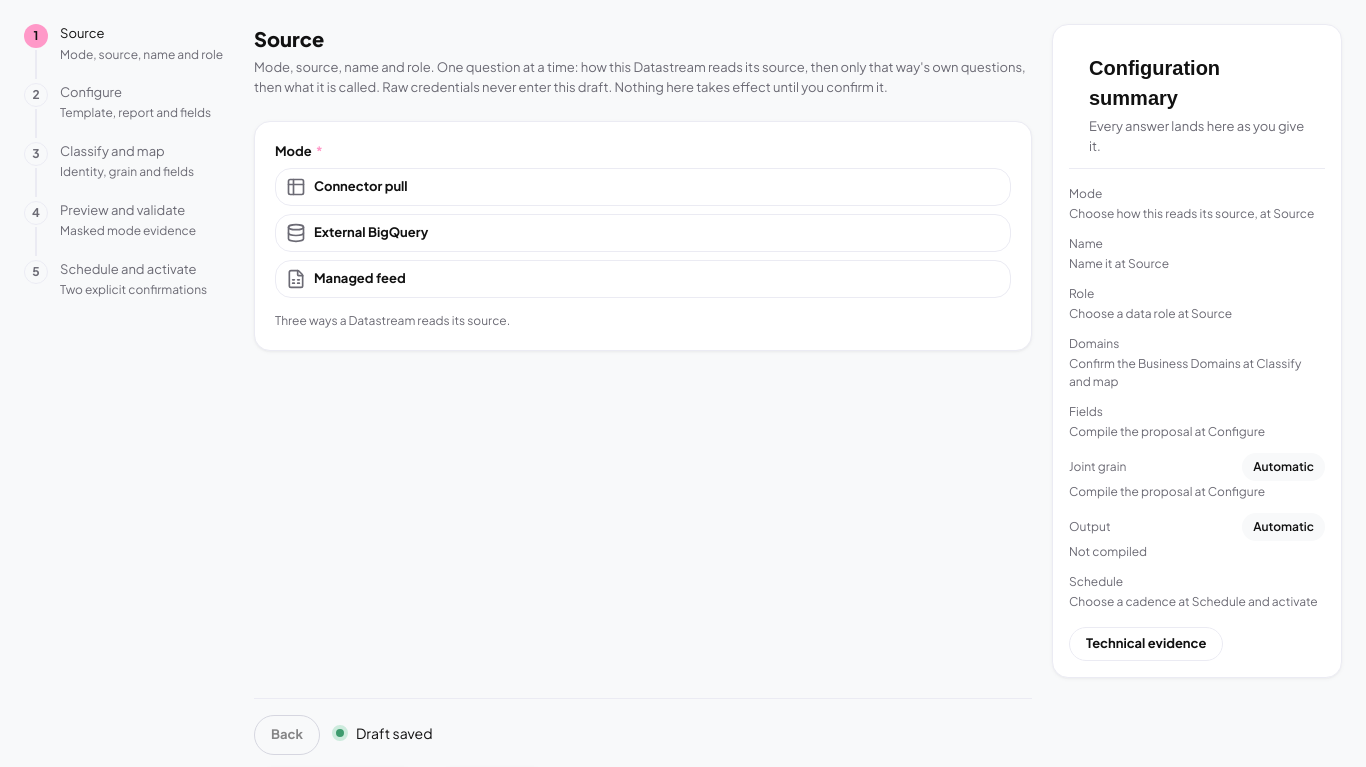
Scenario: states the four clauses of the contract, each with its own state
Click the radio button labelled "Managed feed".
click(360, 278)  # box x1=275 y1=260 x2=1011 y2=298
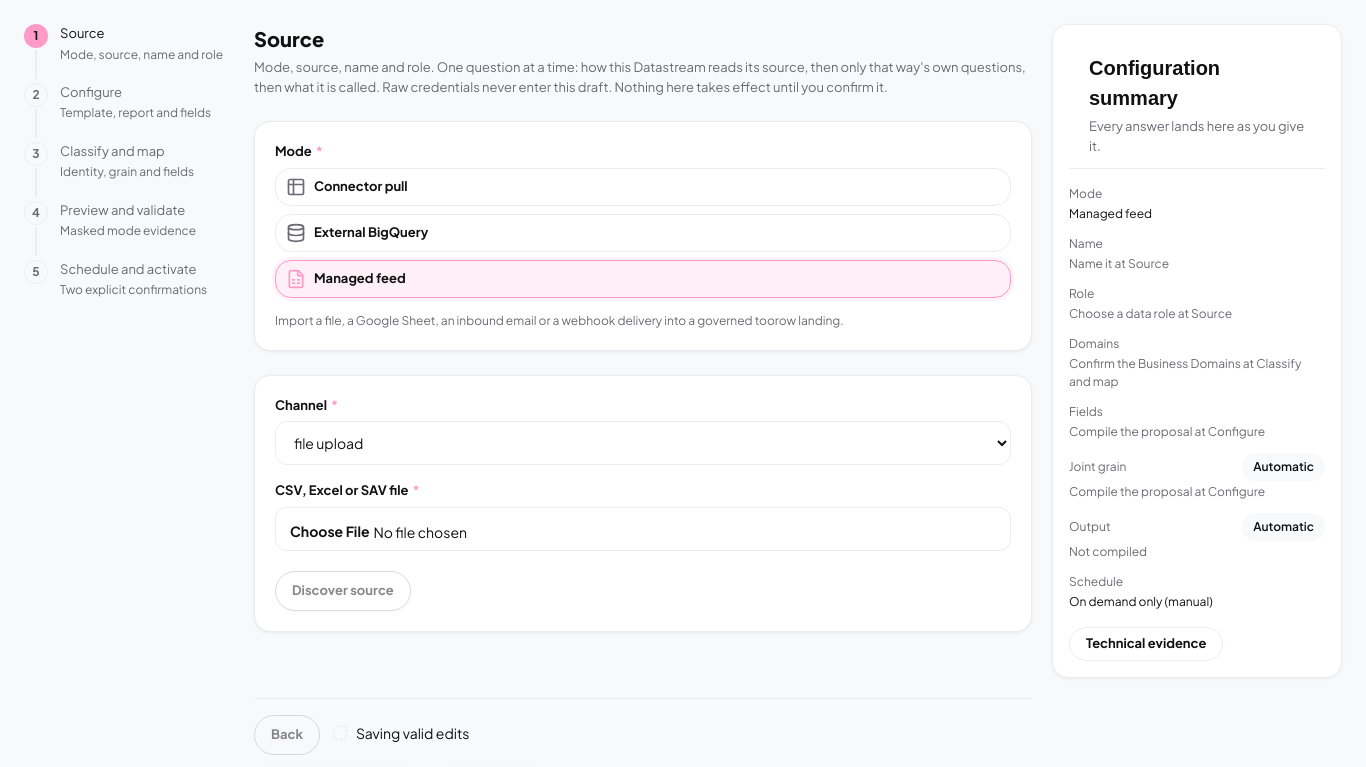
Select "inbound email" in the dropdown labelled "Channel*" at (643, 443), box x1=275 y1=421 x2=1011 y2=465
(page scrolled)
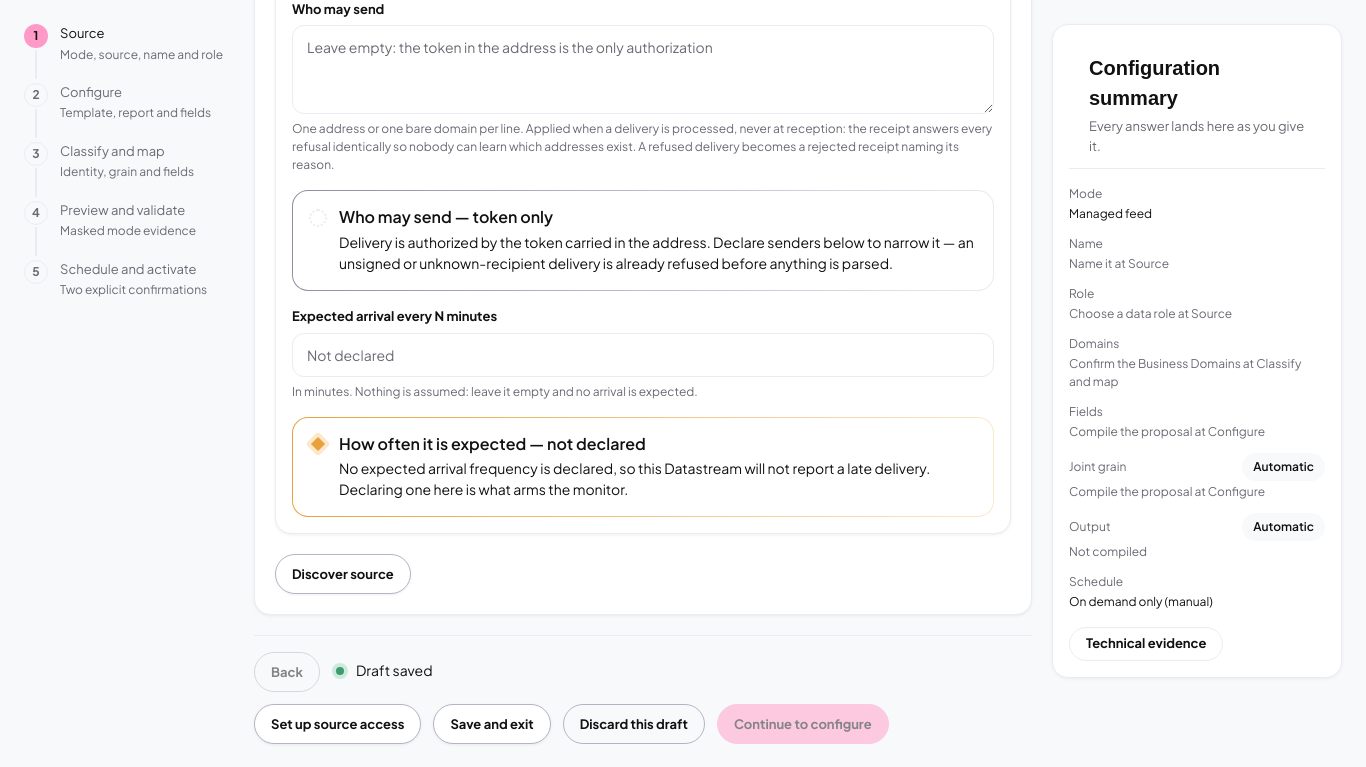
expect the text "Who may send — token only" is shown: met, box x1=339 y1=206 x2=553 y2=227
expect the text "How often it is expected — not declared" is shown: met, box x1=339 y1=433 x2=646 y2=454
